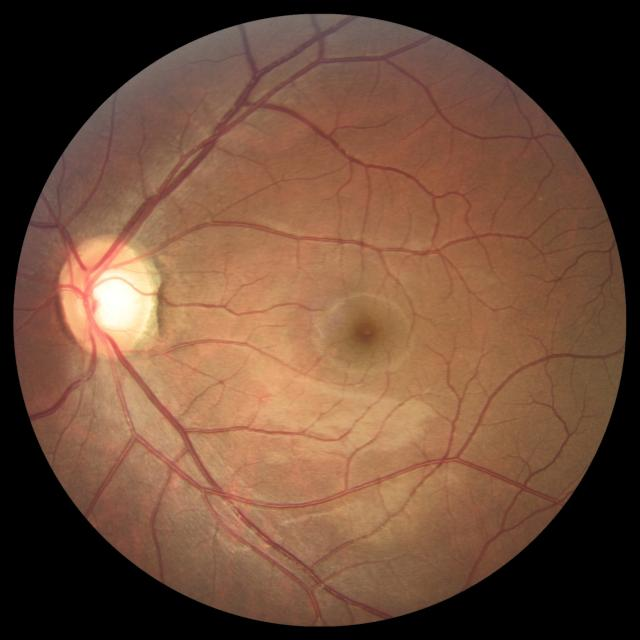OC: (82, 269, 144, 333)
OD: (61, 237, 156, 356)
